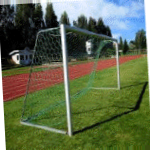goals: (20, 22, 124, 135)
